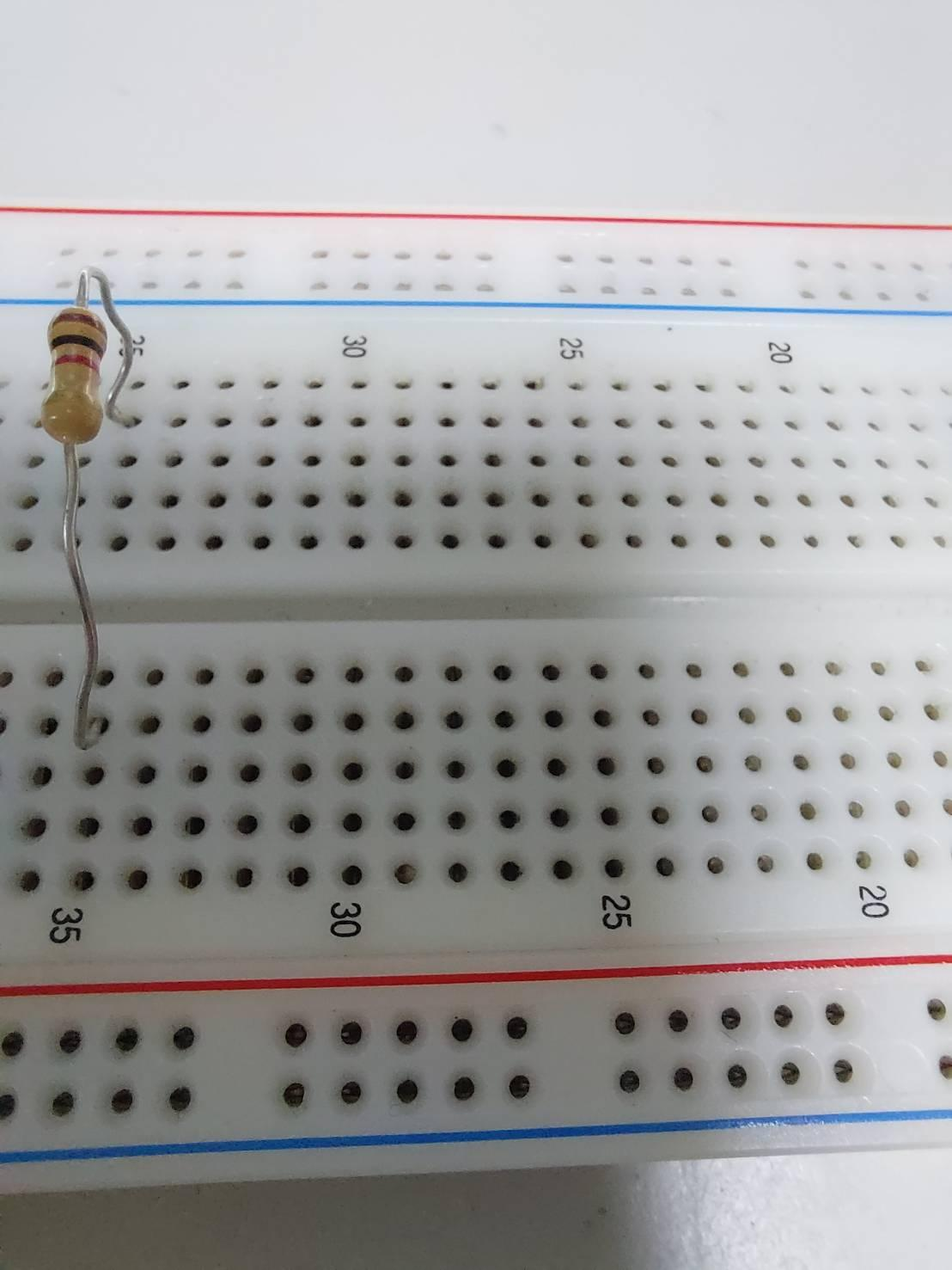resistor: (41, 298, 112, 450)
